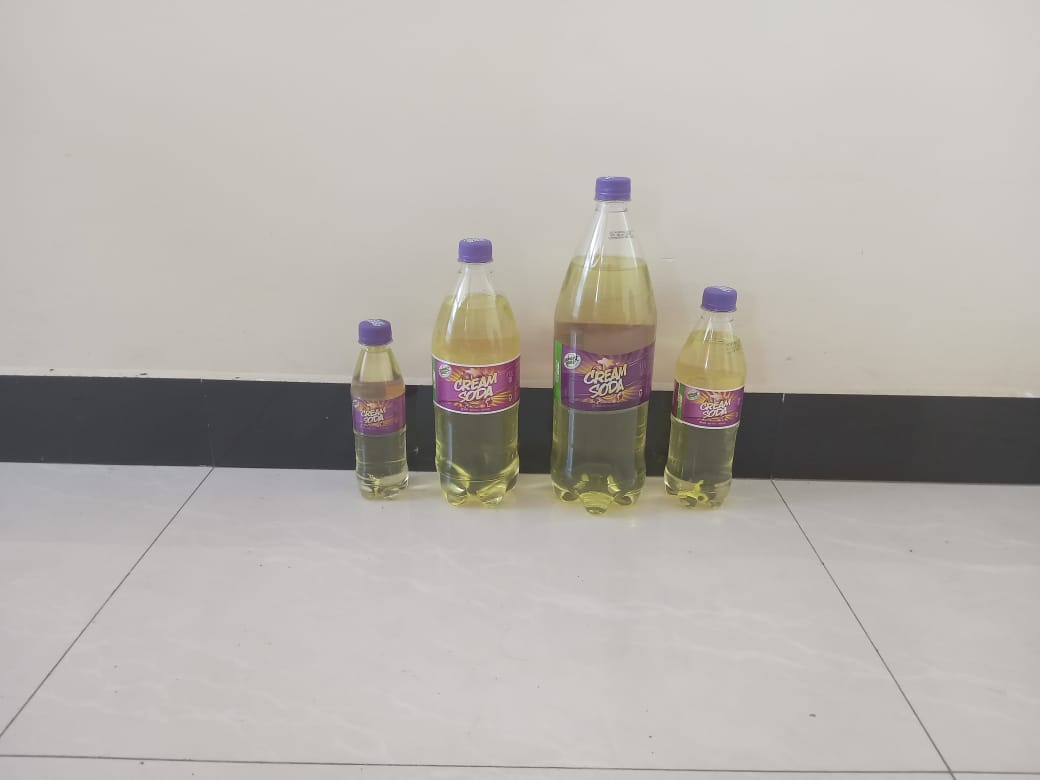L: (548, 173, 655, 518)
M: (431, 239, 534, 513)
S: (666, 283, 748, 515)
Xs: (344, 317, 417, 502)
